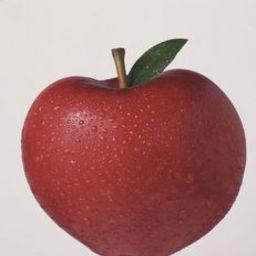apple: (19, 58, 247, 256)
